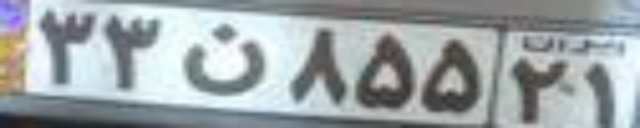1: (581, 61, 616, 127)
2: (505, 55, 568, 123)
3: (36, 9, 95, 86), (104, 15, 160, 90)
5: (353, 31, 413, 108), (420, 39, 482, 113)
8: (282, 27, 347, 105)
non: (181, 22, 264, 96)
